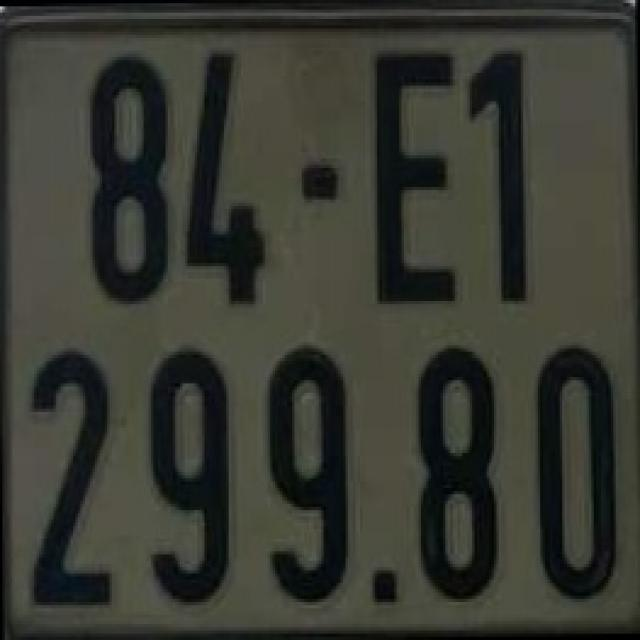0: (528, 336, 621, 602)
1: (465, 41, 545, 308)
2: (22, 339, 119, 611)
4: (180, 41, 277, 314)
8: (406, 333, 508, 605), (80, 41, 176, 308)
9: (258, 336, 358, 608), (138, 342, 238, 608)
E: (362, 38, 462, 314)
